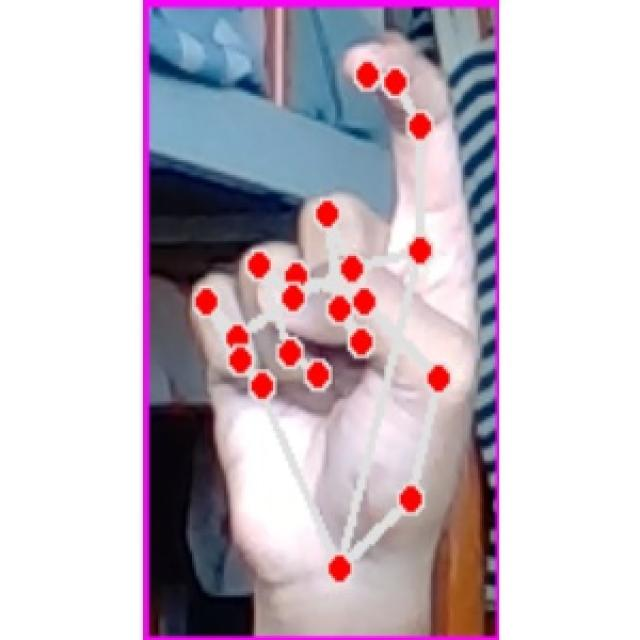X: (186, 21, 477, 589)
